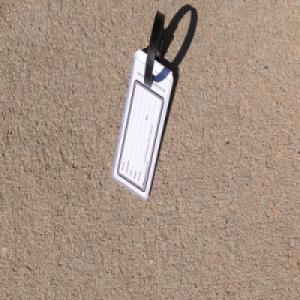LuggageTag: (110, 9, 174, 202)
